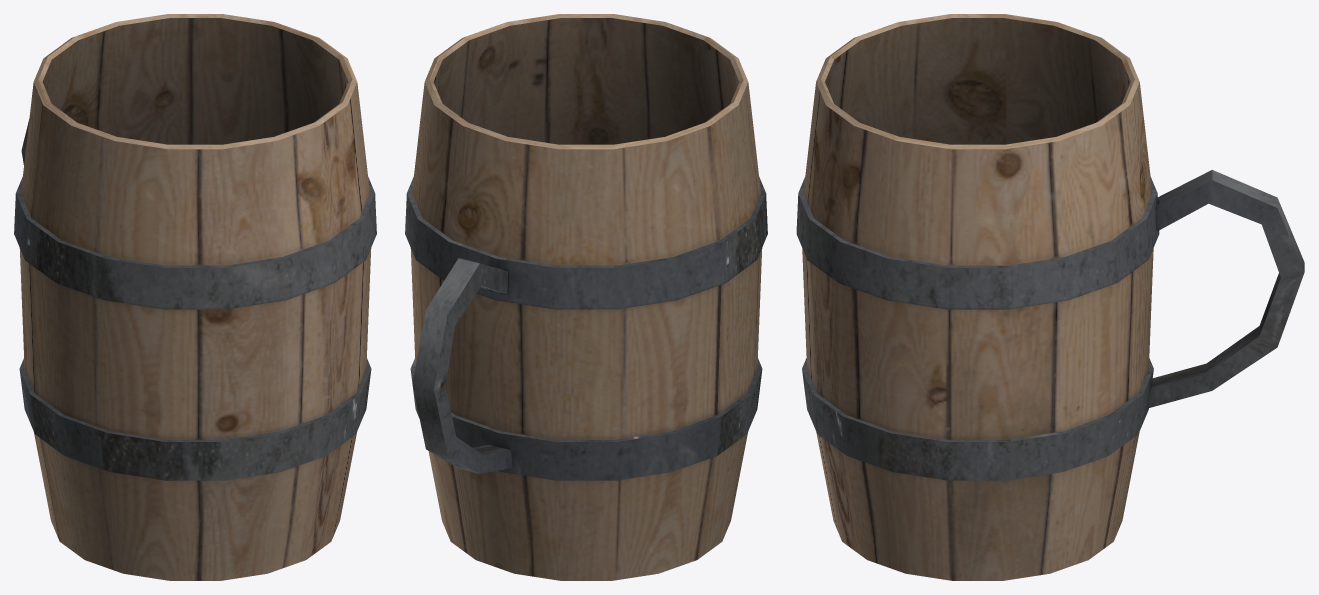
File: beer_mug.FBX
The picture shows the model from 3 angles, left to right: view 1: azimuth 30°, elevation 25°; view 2: azimuth 150°, elevation 25°; view 3: azimuth 270°, elevation 25°; orthographic projection.
Parts seen in each view (by area): view 1: beer_mug; view 2: beer_mug; view 3: beer_mug.
Part boxes in pixels (<box>): beer_mug: <box>14,14,376,580</box>; beer_mug: <box>405,14,767,580</box>; beer_mug: <box>796,14,1304,580</box>.
Size of the model in its own units: 16.89 by 23.26 by 24.01.
